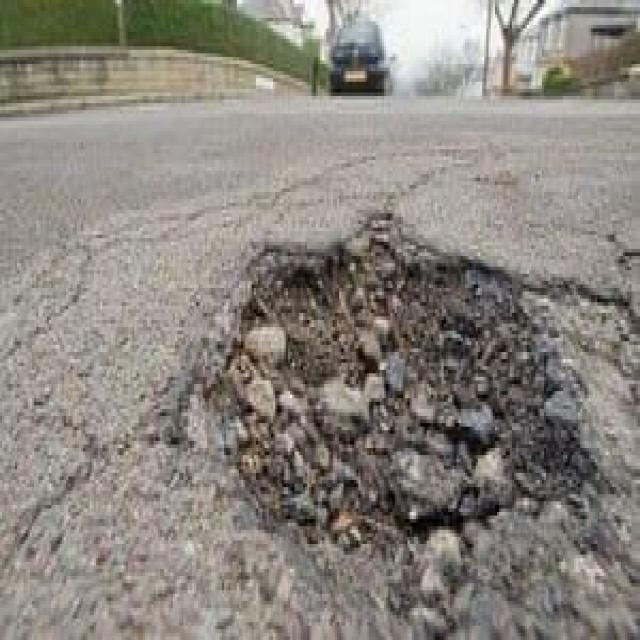jalan retak: (5, 205, 162, 571), (245, 121, 554, 215), (557, 170, 640, 434)
lubang: (162, 210, 640, 640)
